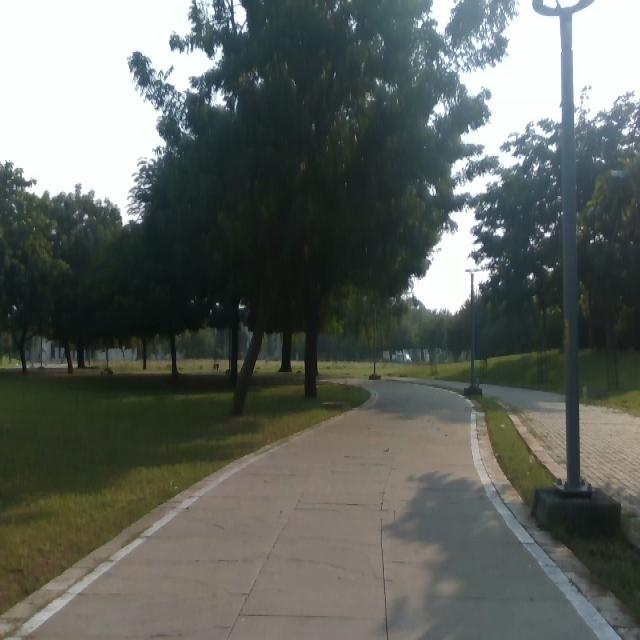lane: (32, 380, 601, 640)
